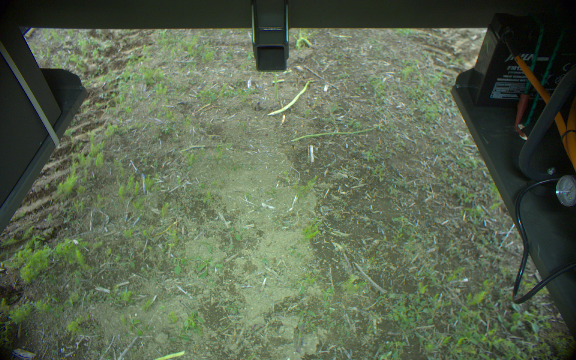aspa: (282, 125, 381, 144), (270, 78, 316, 115), (271, 72, 281, 110), (297, 36, 313, 50)
